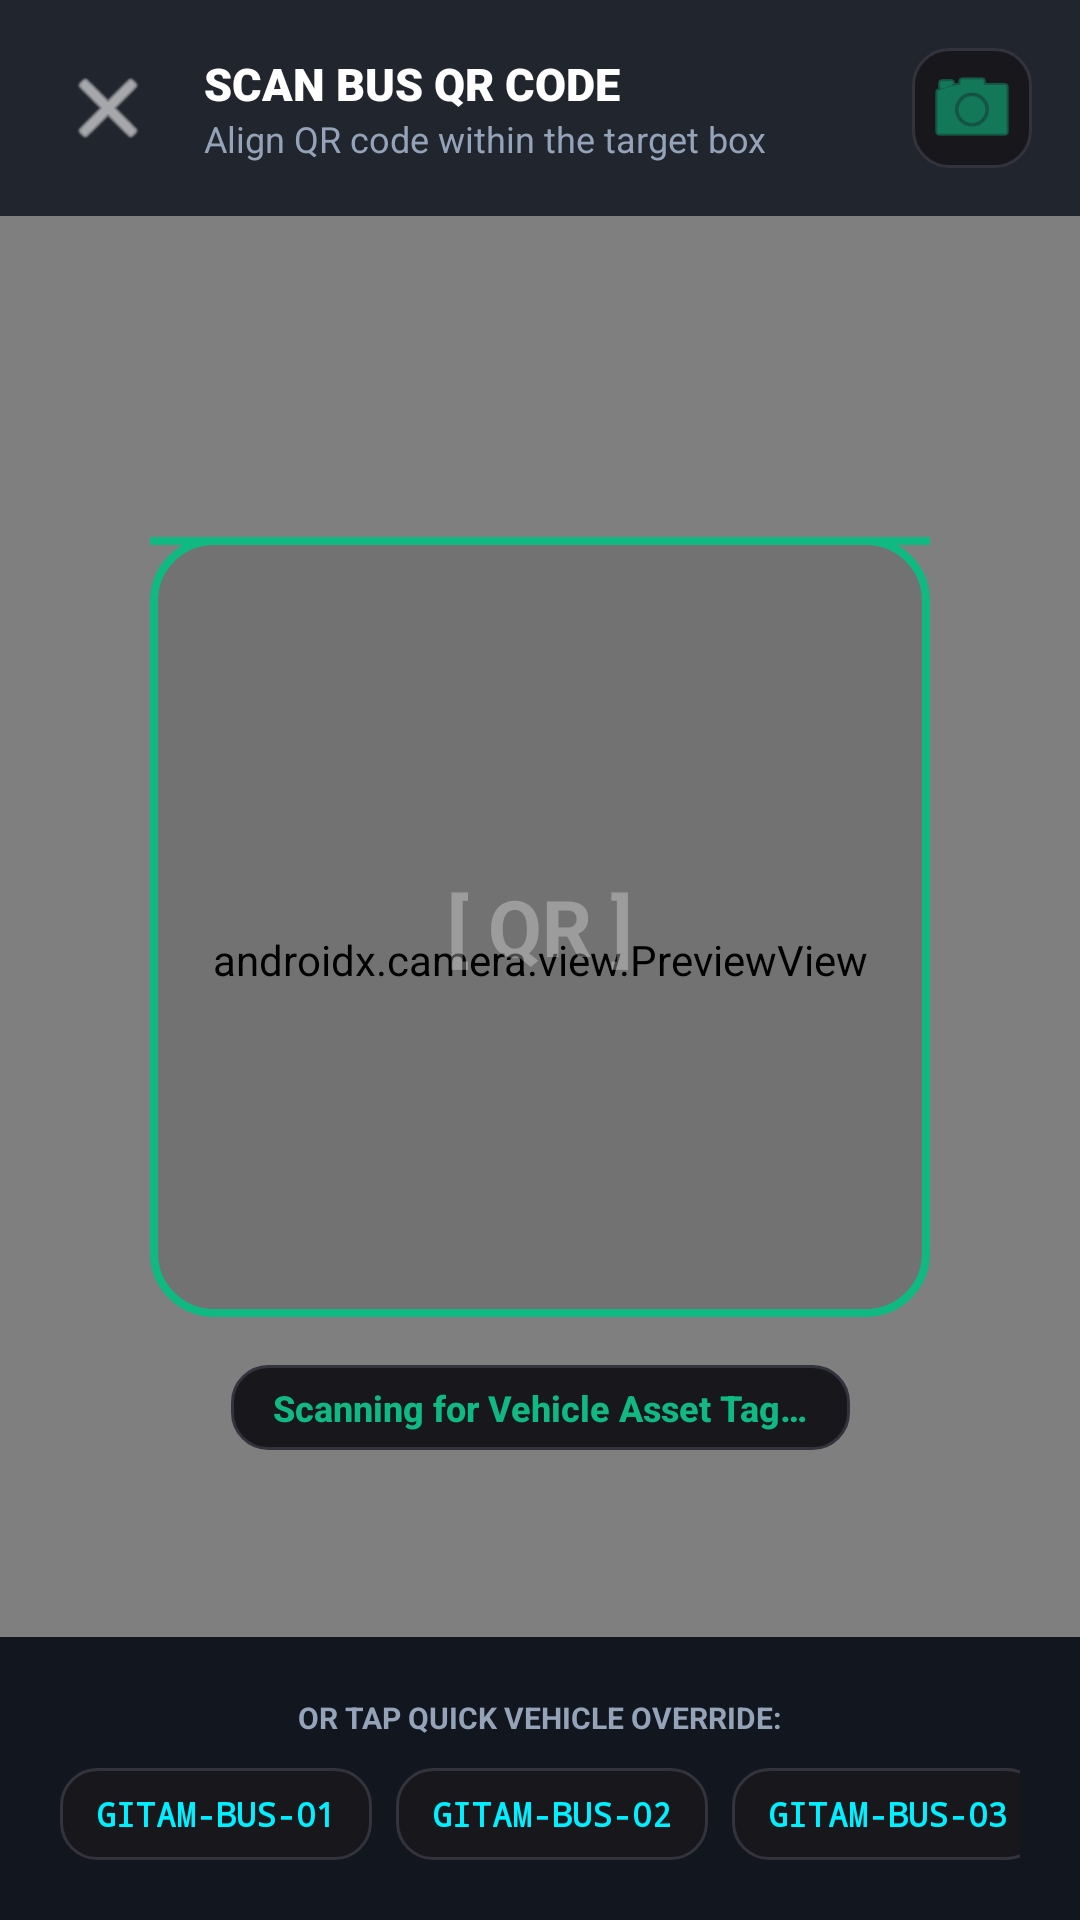

Where to tap for icons on this 1080w x 1920h app screen, as (x,y):
Close: (108,108)
